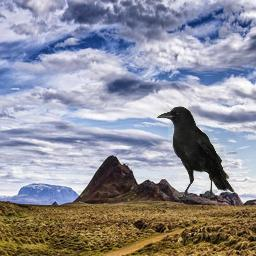Crow: (156, 106, 235, 200)
